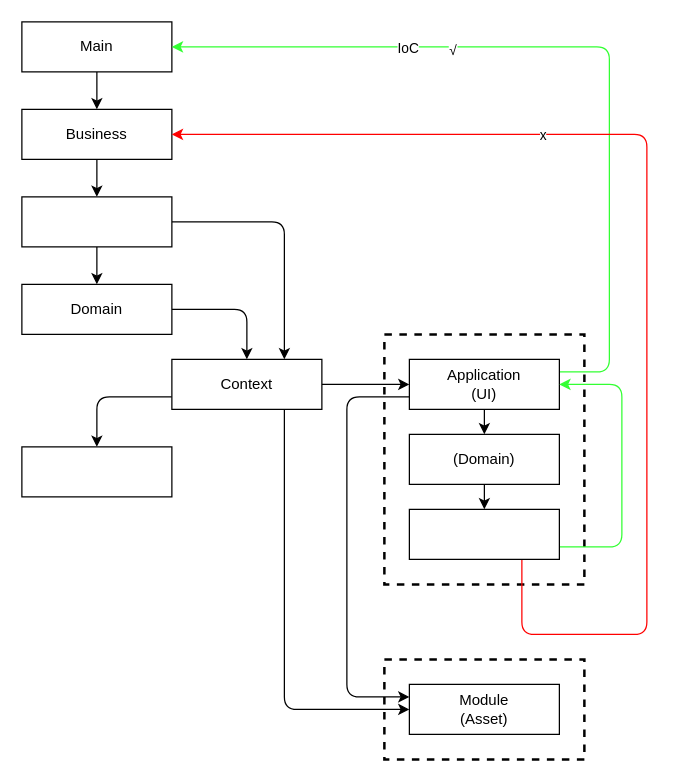
The diagram is 679 pixels wide and 783 high, and some of its shapes have lost their labels. The shapes that lost their labels are listed below. From the top down, each one's box as (x1, y1, x2, y2) in pixels, then its label:
(21, 196, 172, 247): Controller
(21, 446, 172, 497): Entity
(408, 508, 559, 559): Panel(Entity)
